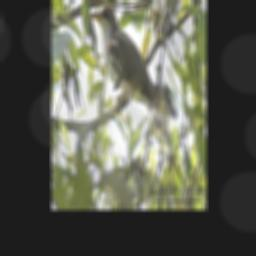Cuckoo: (89, 4, 184, 186)
